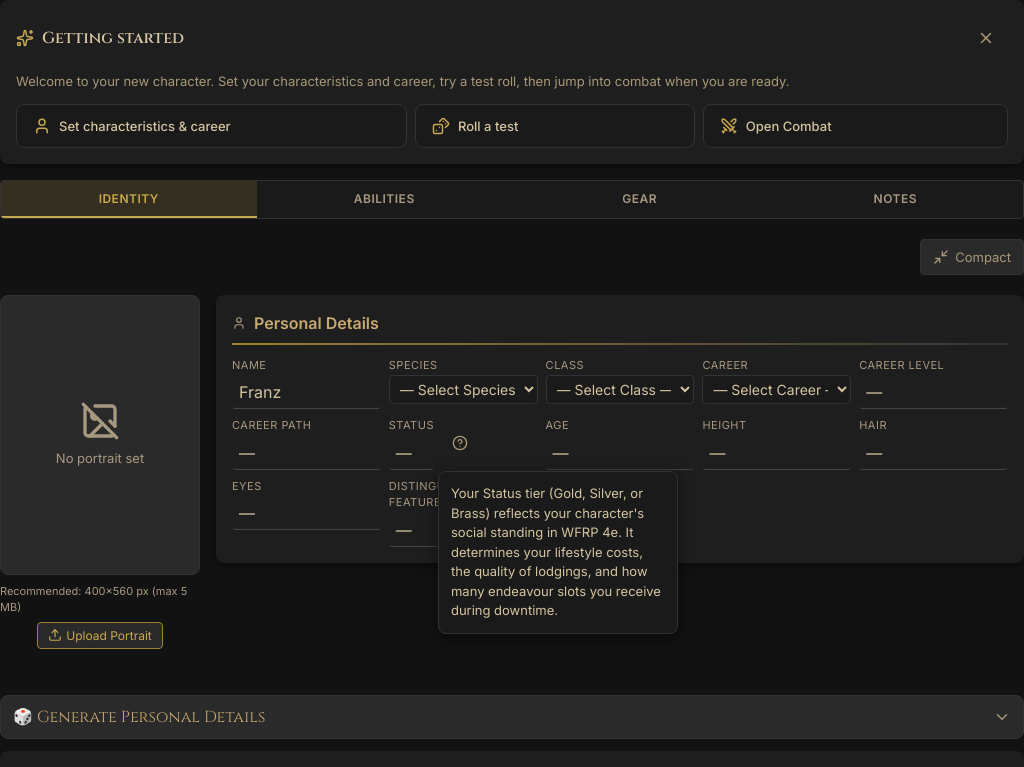
it: CharacterPage compact mode (Req 9.1, 9.2, 9.3, 9.4) › compact mode renders summary (Req 9.2) › displays wounds in compact mode
Click the button with aria-label "switch to compact view" at [972, 256], box [920,238,1023,274]
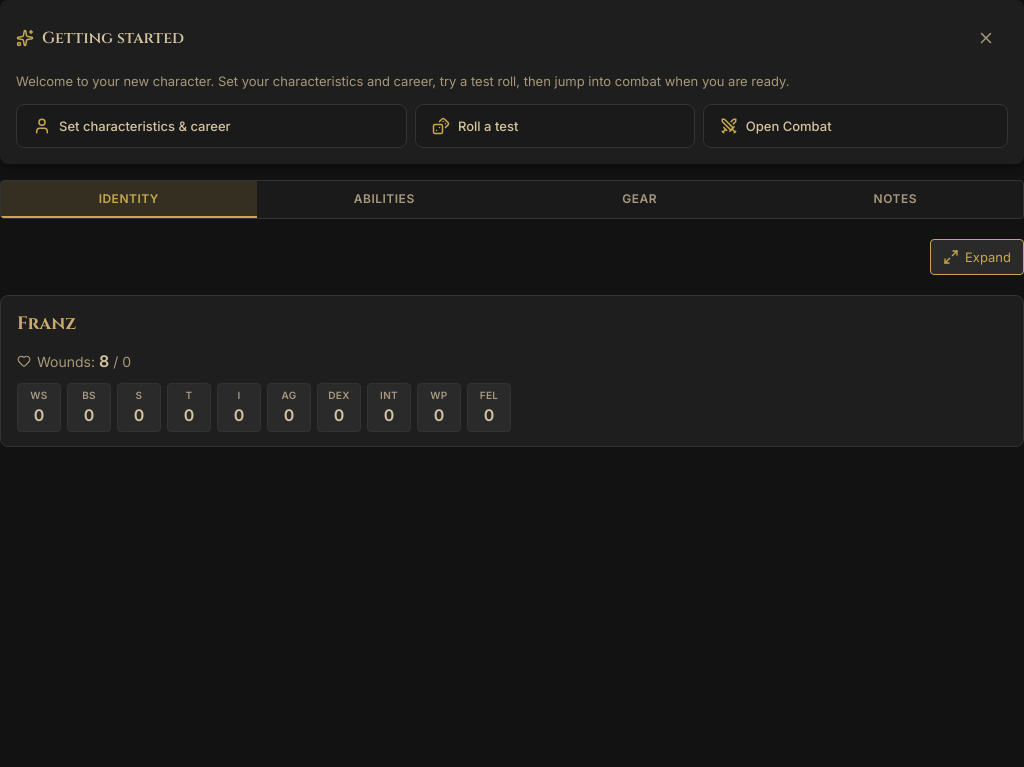
Now the element showing "Wounds: 8 / 0" is shown, box [17,350,131,370]
